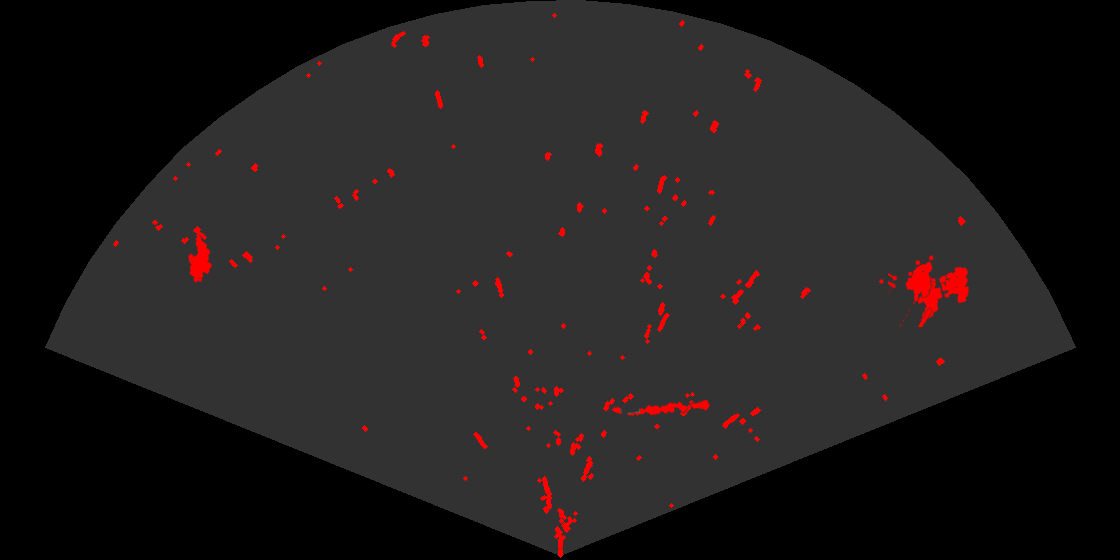AUV: (916, 275, 944, 325), (187, 234, 213, 284)
cage: (888, 254, 971, 327)
chain: (610, 398, 712, 418)
